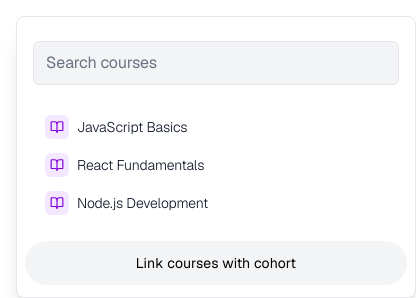
CohortCoursesLinkerDropdown › should filter courses when searching
(page scrolled)
# Type in search box
In the field with placeholder "Search courses": (216, 63) [33,41,399,85], type "React"
(page scrolled)
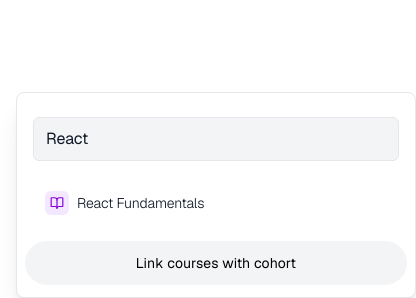
Expected: the text "React Fundamentals" is shown, [77,193,204,213]
Result: the text "JavaScript Basics" is gone
Result: the text "Node.js Development" is gone
